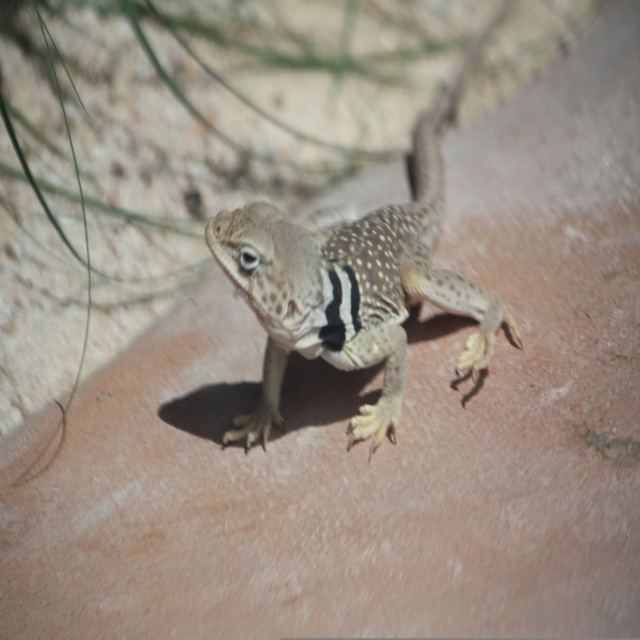Lizard: (191, 110, 541, 489)
